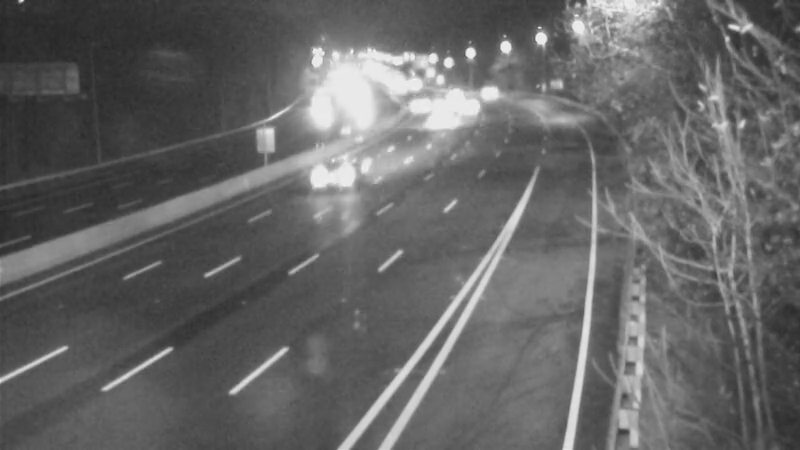vehicle: (295, 134, 375, 214), (423, 68, 473, 118), (462, 66, 512, 116), (443, 84, 493, 134), (415, 78, 465, 128), (392, 83, 442, 133), (421, 96, 471, 146), (293, 87, 343, 137)
